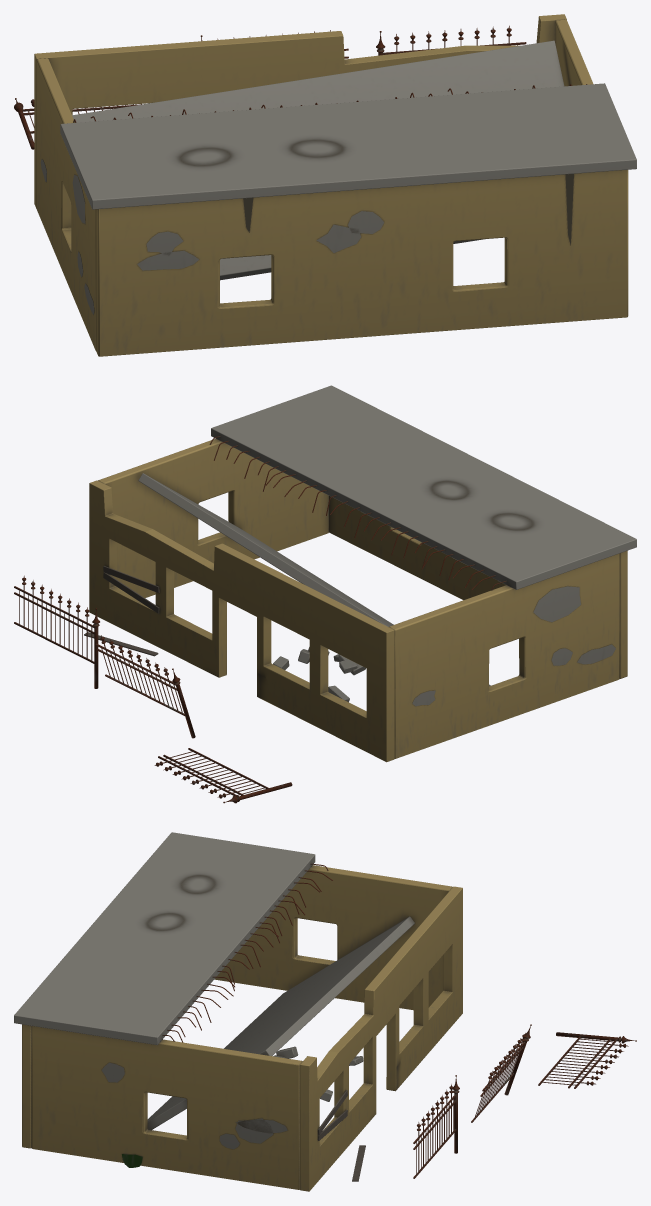
The model's file is escola.glb.
The picture shows the model from 3 angles, top to bottom: view 1: azimuth 30°, elevation 25°; view 2: azimuth 150°, elevation 25°; view 3: azimuth 270°, elevation 25°; orthographic projection. The views are drawn at different scales.
Visible parts, largest first — view 1: g_escola; view 2: g_escola; view 3: g_escola.
Boxes of the visible parts, x1,y1,x2,y2 form: g_escola: (14, 14, 636, 356); g_escola: (14, 385, 636, 803); g_escola: (14, 832, 636, 1191).
Size of the model in its own units: 13.66 by 3.78 by 15.26.
Materials: 1 (1 with a texture image).
